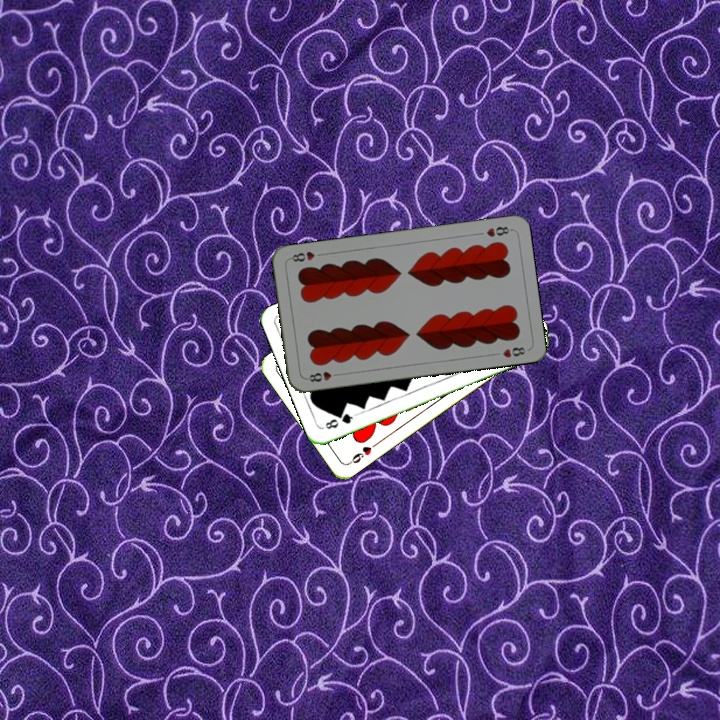G8: (321, 409, 358, 432)
H8: (302, 367, 343, 384), (482, 222, 514, 240)
H9: (345, 439, 380, 467)
